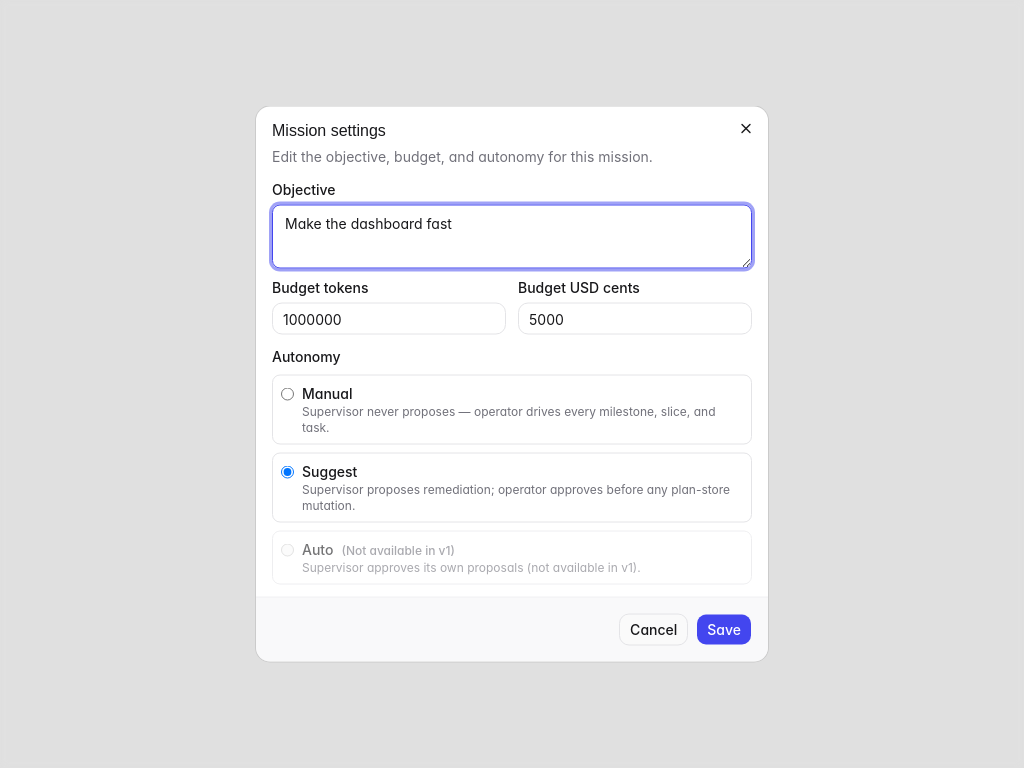
Test: mission_settings_dialog — budget validation › rejects a negative budget_usd_cents value
Replace the text in the number field with test id "mission-budget-cents" with "-5". click: [635, 318]
box: [518, 302, 752, 334]
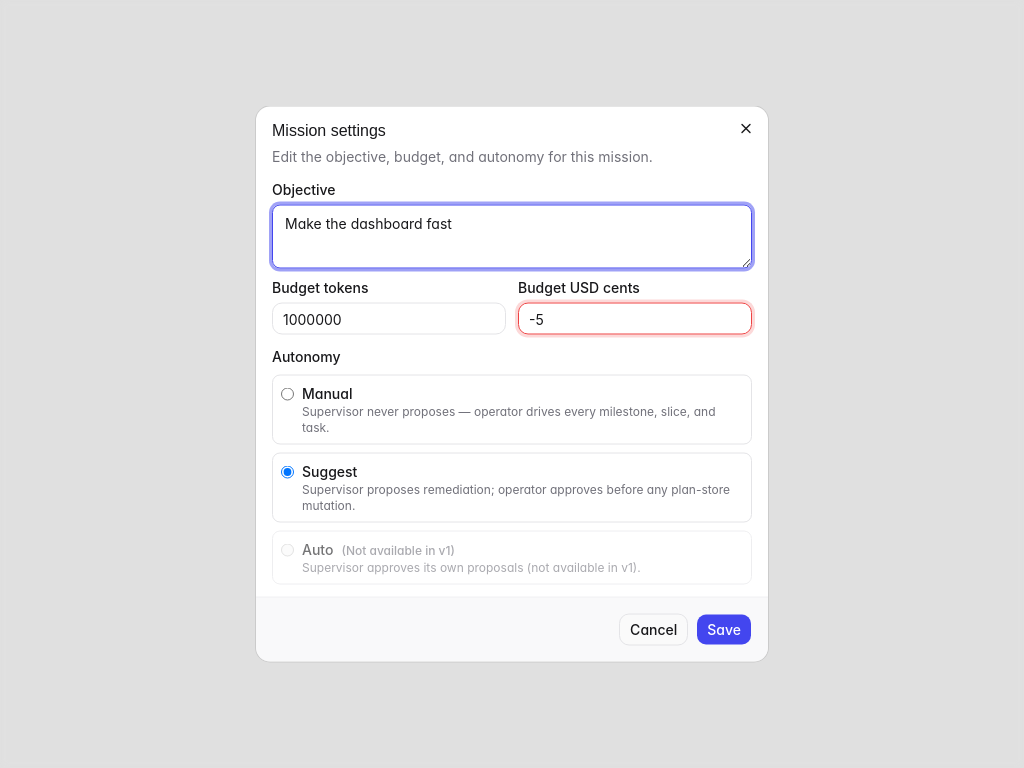
Click the button with test id "mission-settings-save". click: [724, 630]
box: [696, 614, 752, 646]
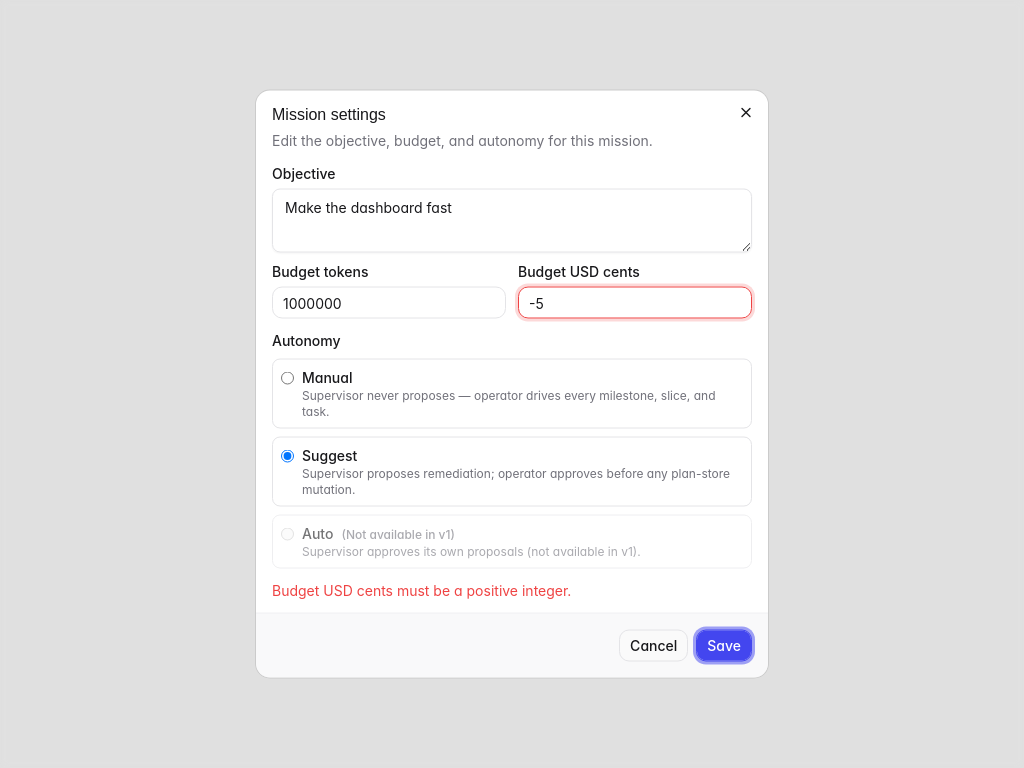
Check: the message with test id "mission-settings-error" shows "positive integer", box [272, 582, 571, 598]
